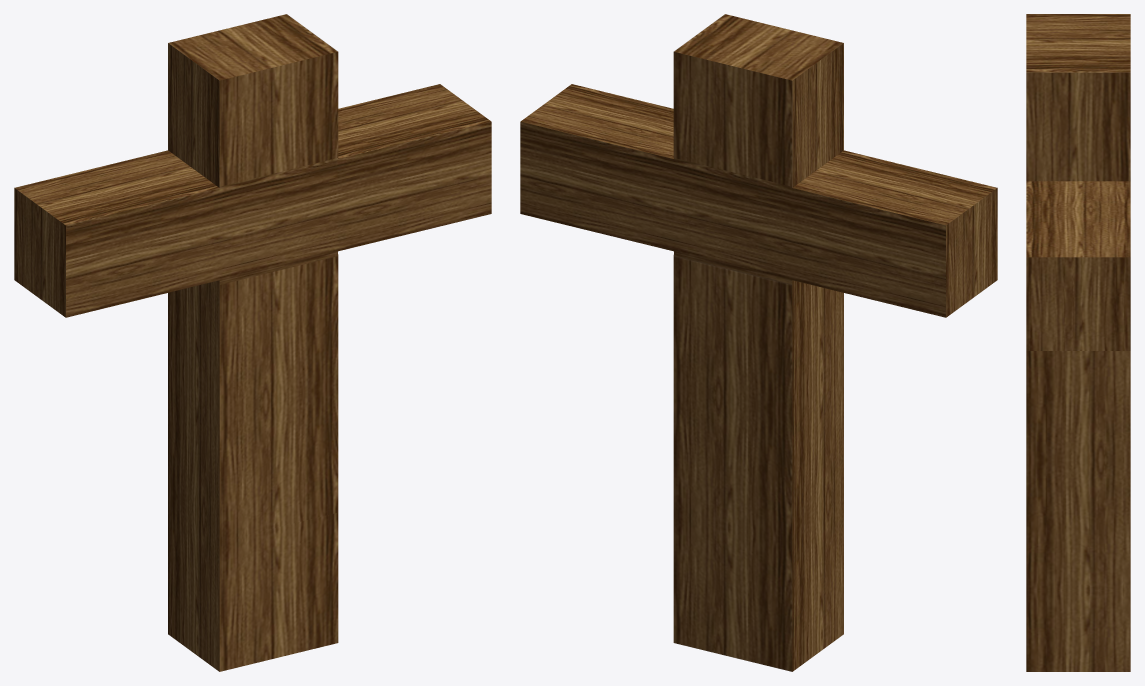
File: MaxExportedFBXFile.fbx
The picture shows the model from 3 angles, left to right: view 1: azimuth 30°, elevation 25°; view 2: azimuth 150°, elevation 25°; view 3: azimuth 270°, elevation 25°; orthographic projection.
Parts seen in each view (by area): view 1: Cross; view 2: Cross; view 3: Cross.
Boxes of the visible parts, <box> form: Cross: <box>14,14,491,671</box>; Cross: <box>520,14,997,671</box>; Cross: <box>1026,14,1130,671</box>.
Bounding box in the file's own units: 20.75 × 27.54 × 4.35.
